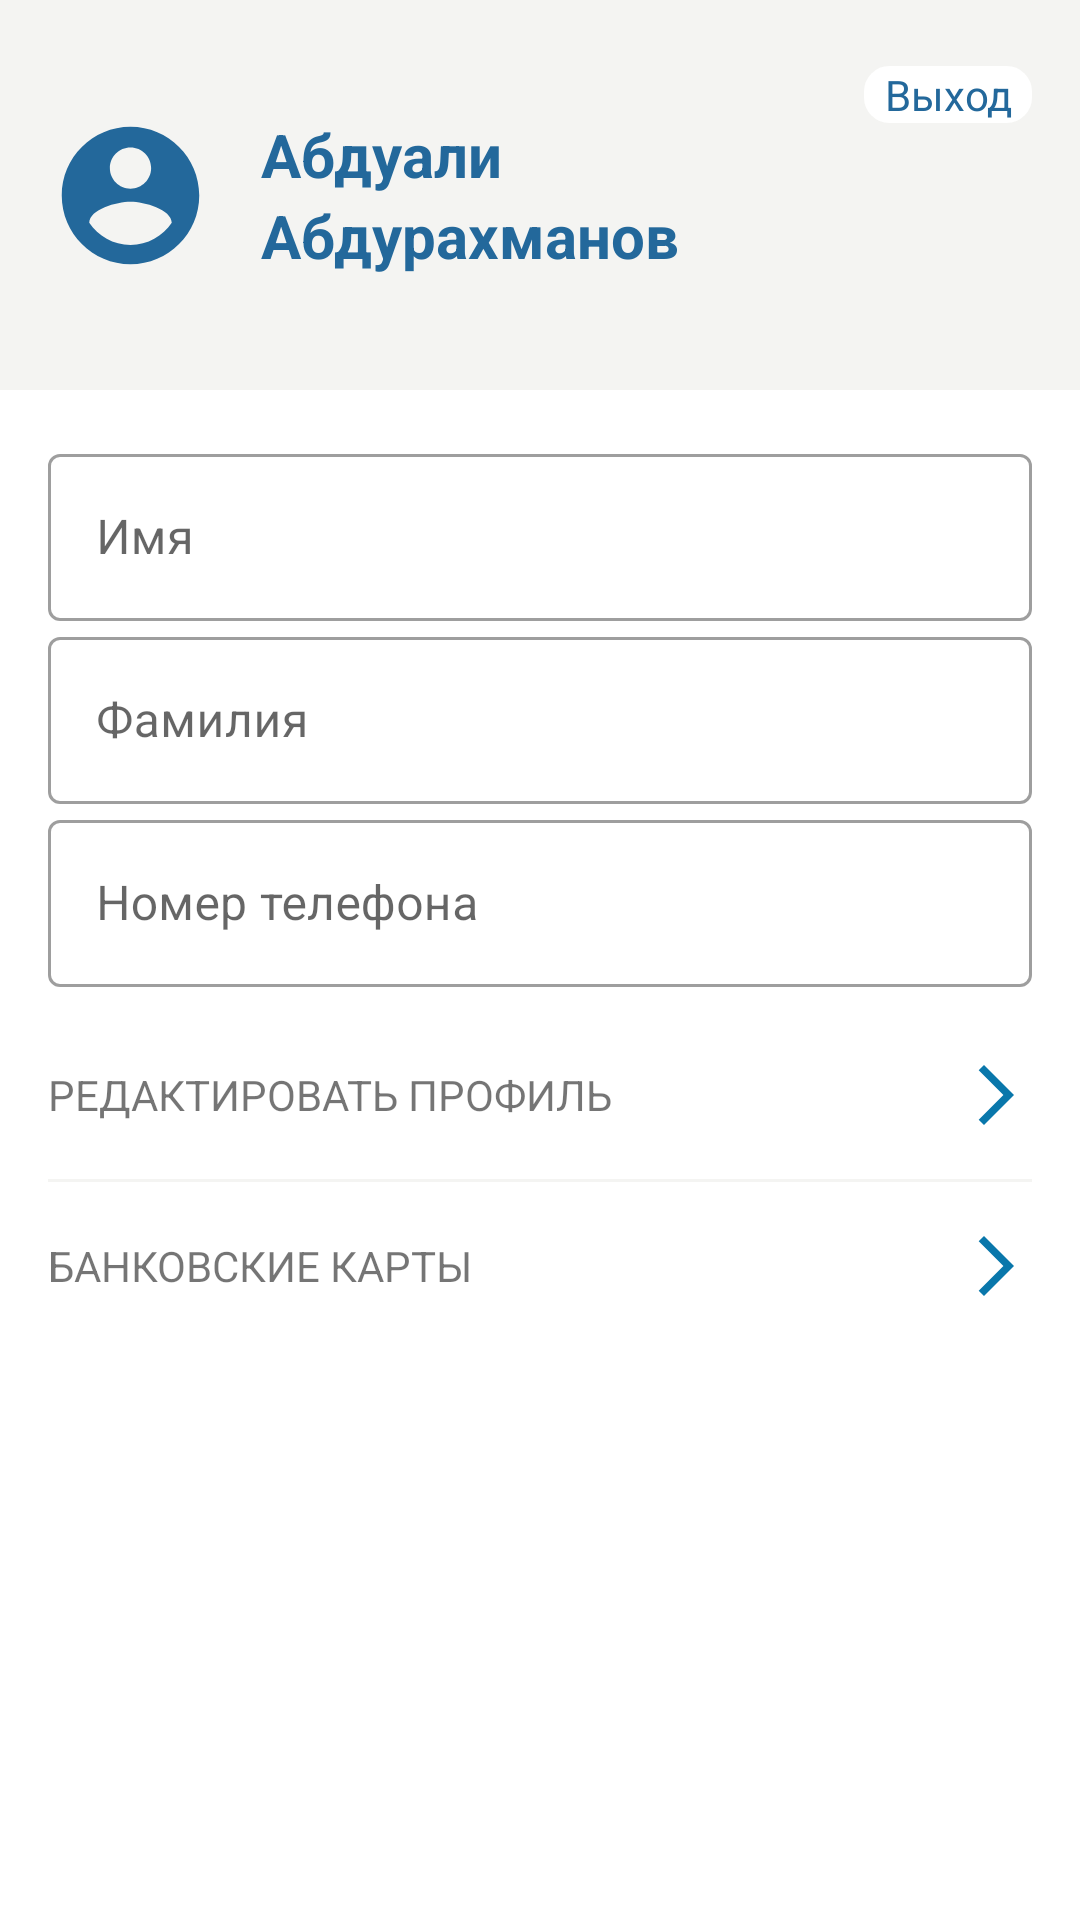

Named icons in this screenshot (1080x1920) and their bounding boxes, (x1, y1, x2, y2):
account circle: (61, 126, 200, 265)
arrow forward: (979, 1065, 1014, 1125), (979, 1236, 1014, 1296)
